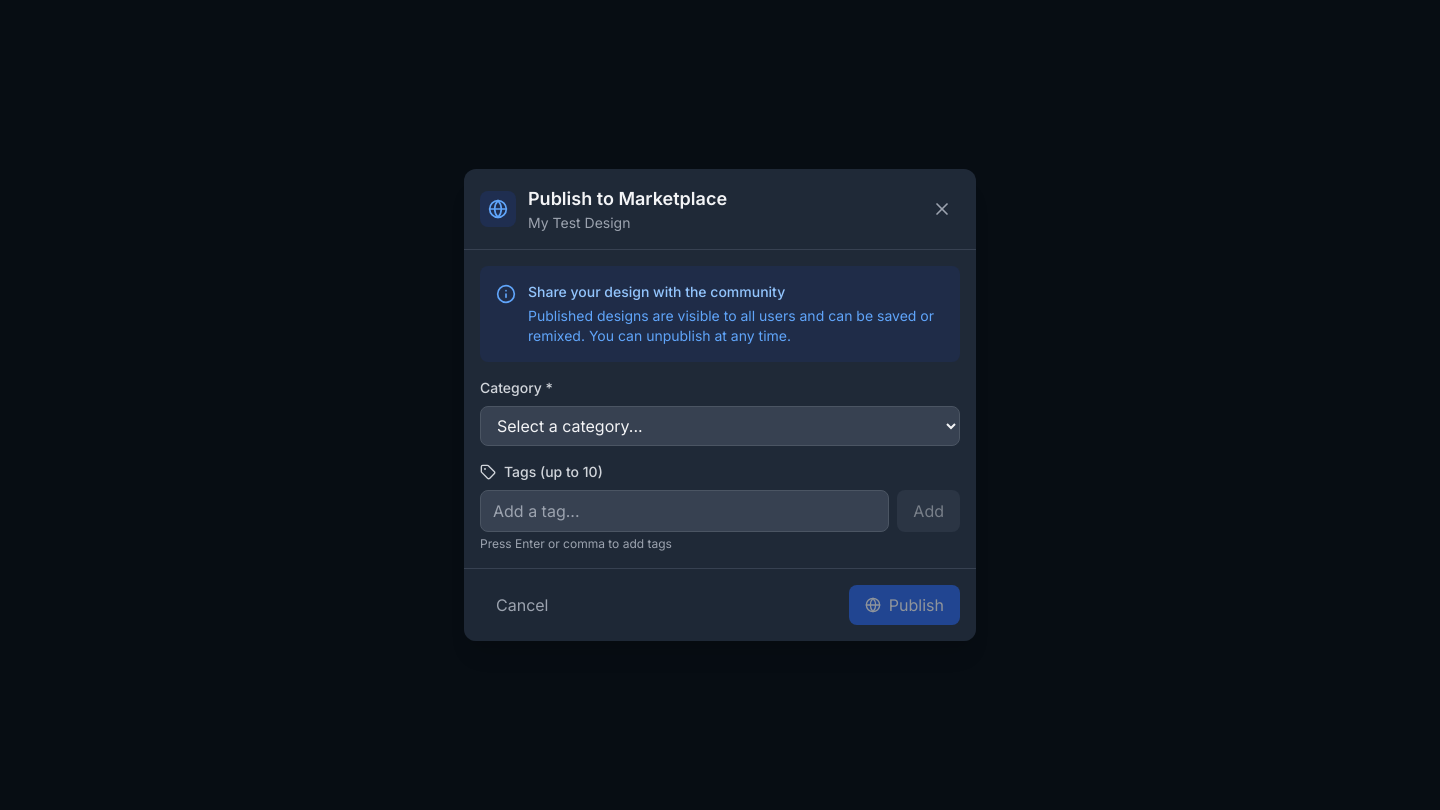
Test: PublishToMarketplaceDialog › allows adding tags
Step 1. Type "my-tag" into the field with test id "tag-input" → x=685, y=511, box [480,490,889,532]
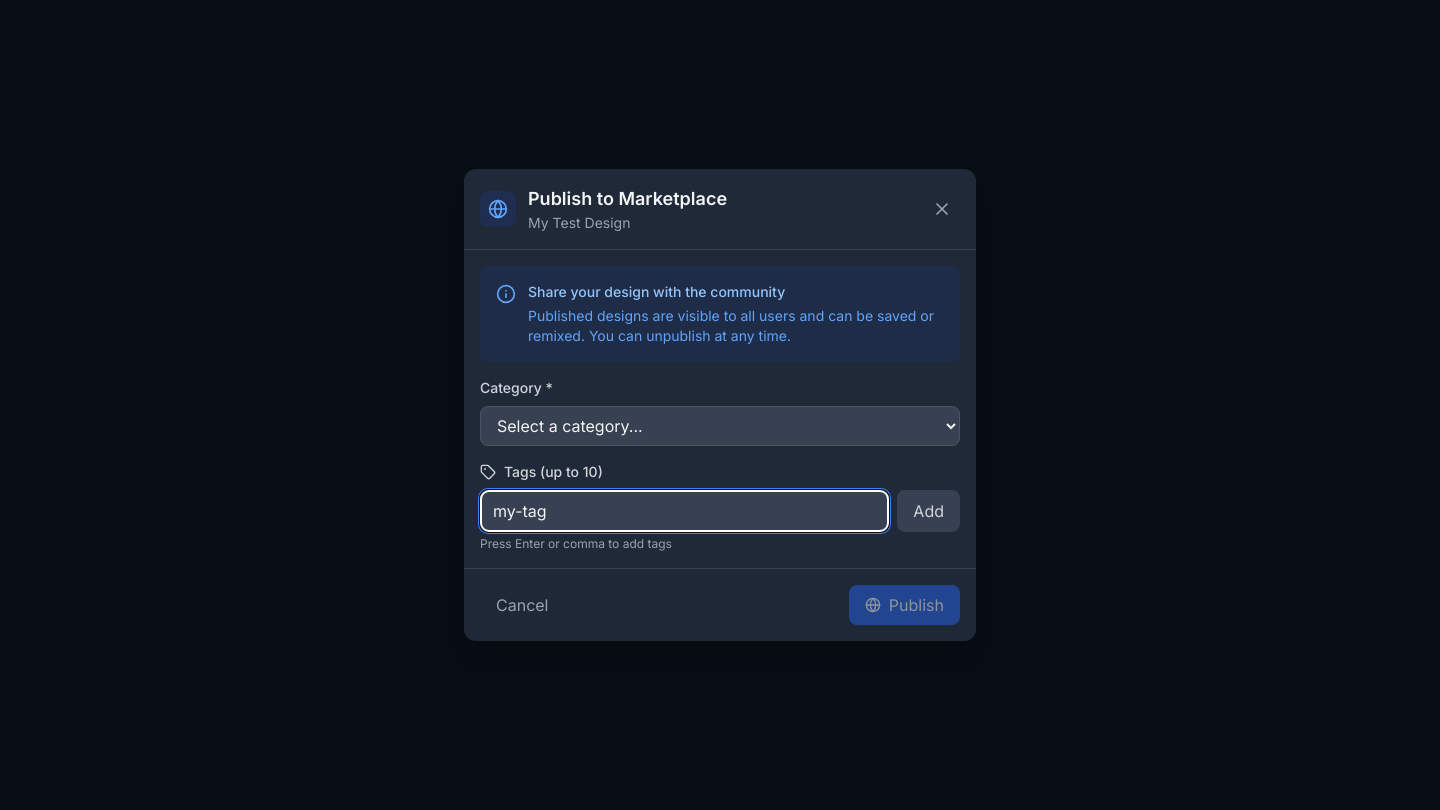
Step 2. Click the button "Add" → x=929, y=511, box [897,490,960,532]
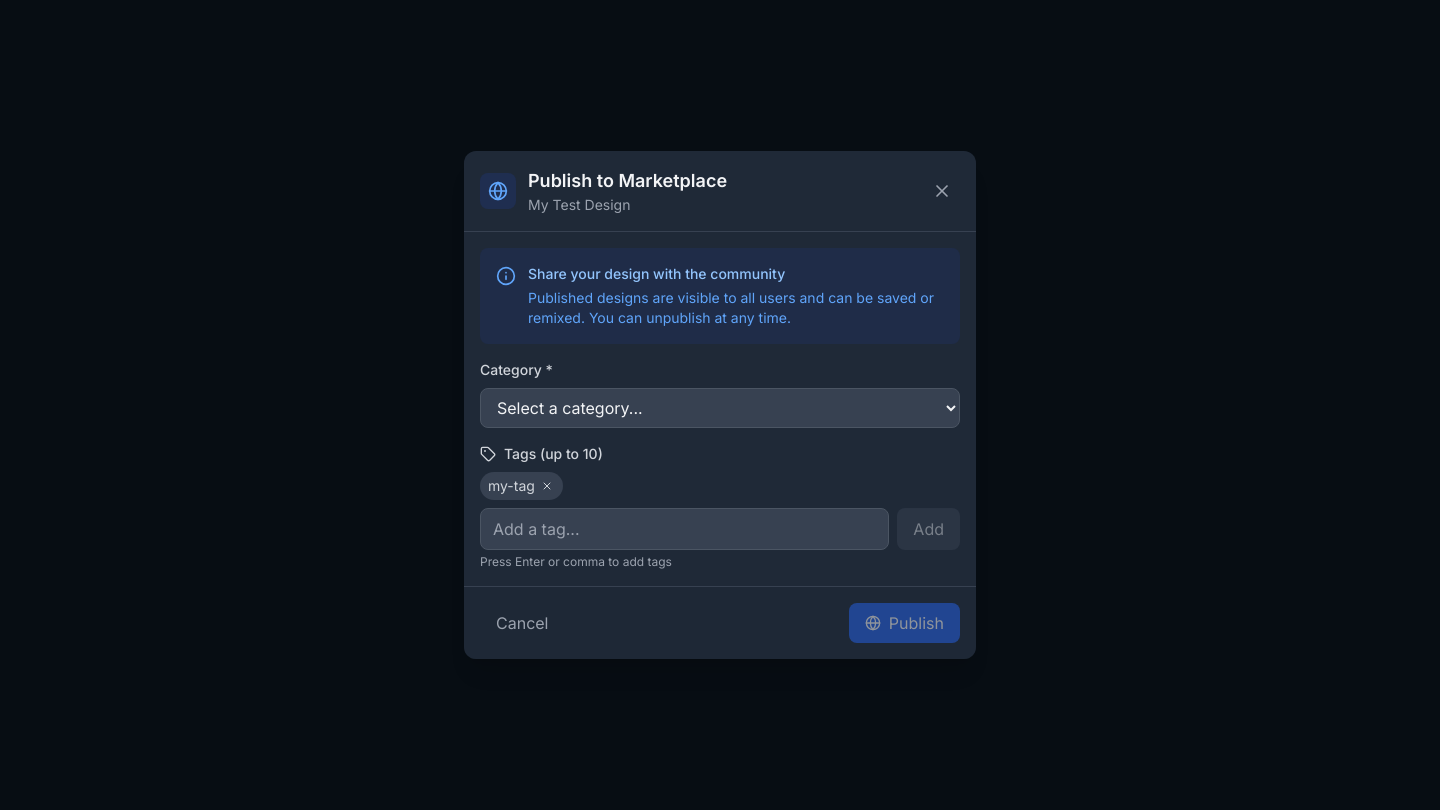
expect the text "my-tag" is shown: met, box [480,472,563,500]
